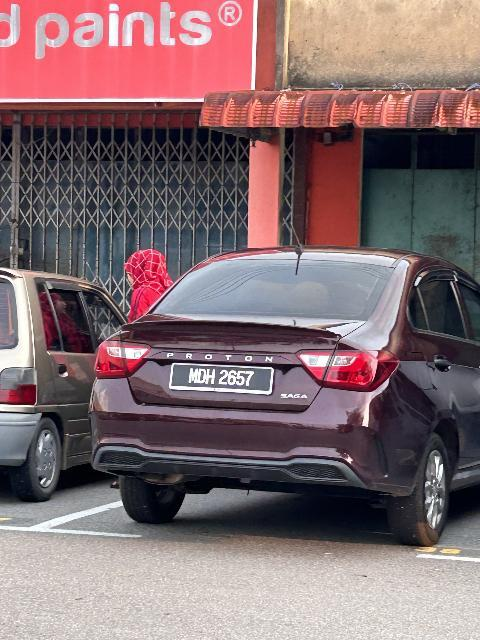License_Plate: (169, 364, 278, 396)
MDH2657: (169, 364, 278, 396)
car: (86, 247, 480, 559)
